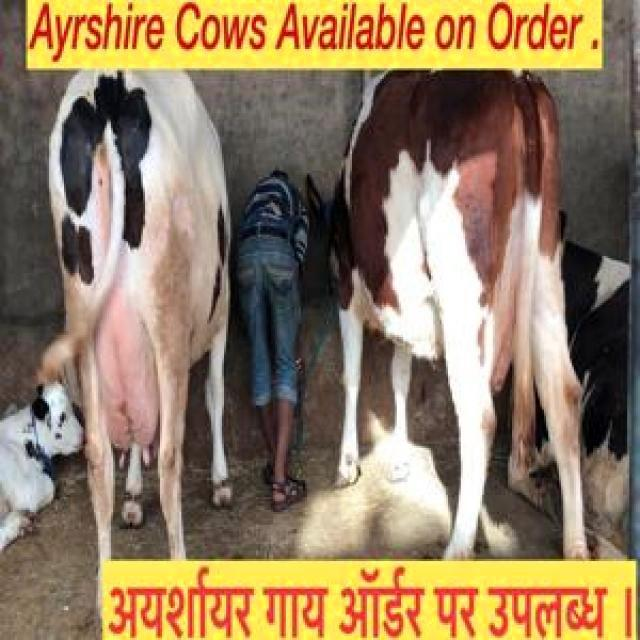cow: (334, 72, 585, 558), (39, 71, 230, 562), (0, 381, 82, 551)
